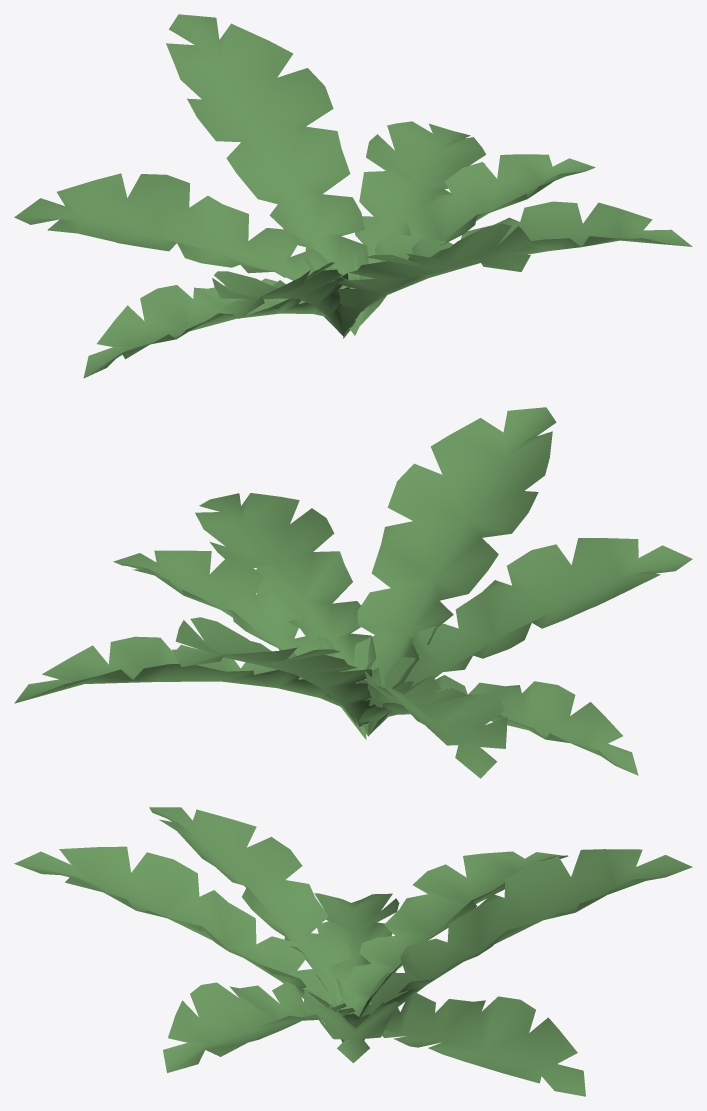
Rendered from 002_Bush_Fern_001.fbx.
3 views of the same model, one above another, from view 1: azimuth 30°, elevation 25°; view 2: azimuth 150°, elevation 25°; view 3: azimuth 270°, elevation 25° (orthographic). The views are drawn at different scales.
Visible parts, largest first — view 1: _Bush_Fern_001; view 2: _Bush_Fern_001; view 3: _Bush_Fern_001.
Boxes of the visible parts, x1,y1,x2,y2 form: _Bush_Fern_001: (14,14,692,378); _Bush_Fern_001: (14,407,692,778); _Bush_Fern_001: (14,807,692,1096).
Size of the model in its own units: 124 by 45.37 by 146.
